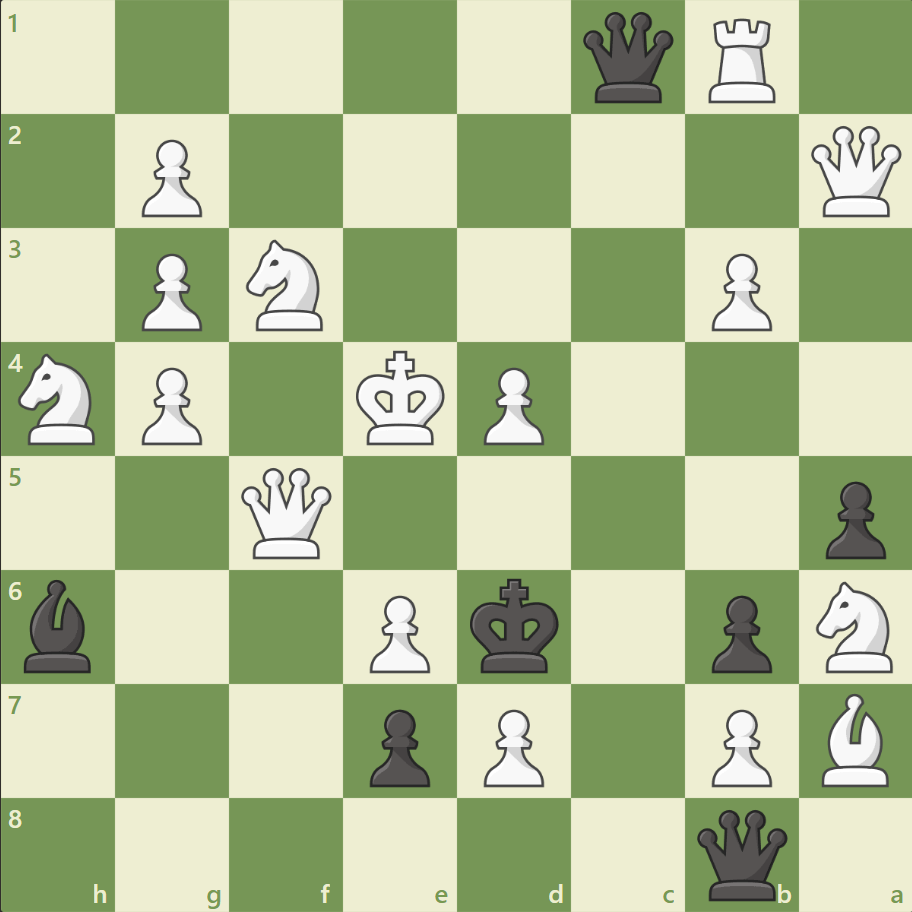B: (812, 687, 896, 790)
K: (351, 344, 451, 452)
N: (238, 234, 335, 337), (806, 575, 903, 677), (11, 348, 108, 450)
P: (701, 700, 776, 791), (474, 700, 549, 791), (474, 359, 549, 450), (133, 359, 208, 450), (701, 246, 776, 337), (133, 246, 208, 337), (133, 132, 208, 223), (361, 586, 435, 677)
Q: (805, 122, 904, 222), (237, 463, 336, 562)
R: (700, 12, 783, 109)
b: (17, 574, 101, 676)
k: (465, 571, 565, 679)
p: (701, 586, 776, 677), (361, 700, 435, 791), (815, 473, 889, 564)
q: (691, 804, 790, 903), (578, 9, 677, 108)
